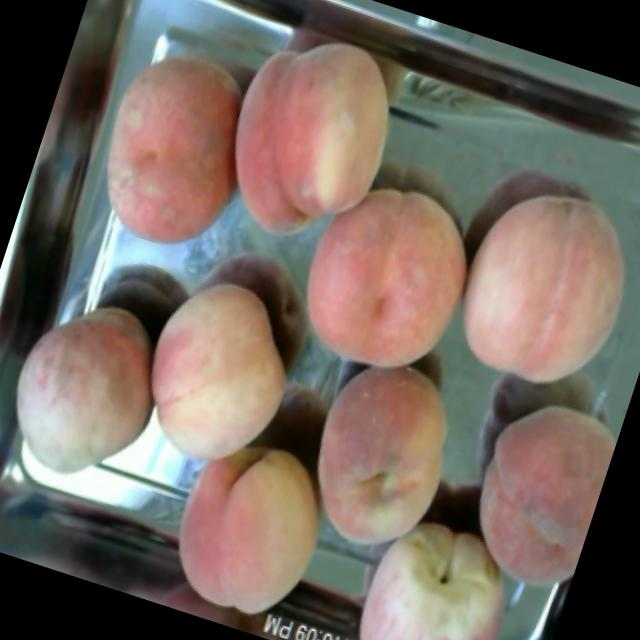Fruit: (191, 10, 427, 270), (268, 155, 498, 403), (430, 163, 640, 415), (69, 29, 278, 271), (282, 337, 484, 576), (118, 257, 324, 488), (144, 417, 352, 640), (438, 372, 626, 612), (0, 274, 184, 511), (340, 496, 542, 640)
